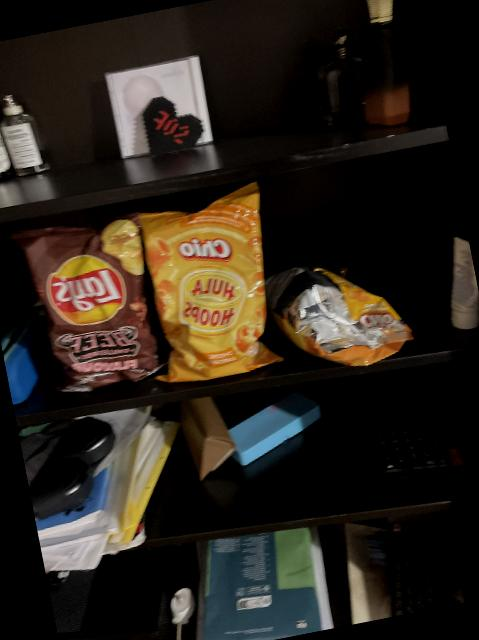Chio Cascaval 125g: (258, 245, 418, 382)
Chio Hula Hoops Cheese 70g: (127, 182, 294, 386)
Lays Beef Grilled Ribs 125g: (15, 208, 168, 394)
